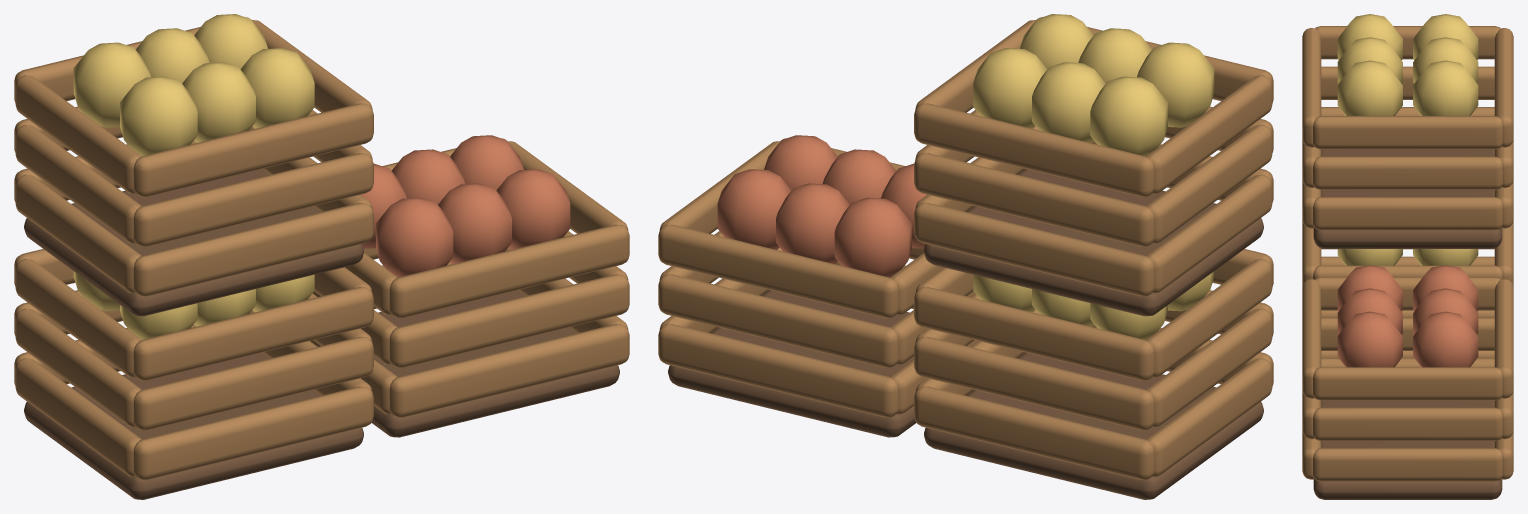
File: produce-crates.glb
3 views of the same model, side by side, from view 1: azimuth 30°, elevation 25°; view 2: azimuth 150°, elevation 25°; view 3: azimuth 270°, elevation 25° (orthographic). The views are drawn at different scales.
Visible parts, largest first — view 1: Crate.005_Mesh, Crate.003_Mesh, Crate.004_Mesh; view 2: Crate.005_Mesh, Crate.003_Mesh, Crate.004_Mesh; view 3: Crate.004_Mesh, Crate.005_Mesh, Crate.003_Mesh.
Boxes of the visible parts, bbox=[...] form: Crate.005_Mesh: bbox=[14, 14, 373, 316]; Crate.003_Mesh: bbox=[14, 249, 373, 499]; Crate.004_Mesh: bbox=[310, 135, 629, 437]; Crate.005_Mesh: bbox=[914, 14, 1273, 316]; Crate.003_Mesh: bbox=[914, 249, 1273, 499]; Crate.004_Mesh: bbox=[658, 135, 977, 437]; Crate.004_Mesh: bbox=[1302, 265, 1513, 499]; Crate.005_Mesh: bbox=[1302, 14, 1513, 248]; Crate.003_Mesh: bbox=[1302, 220, 1513, 358].
Bounding box in the file's own units: 1.37 × 1.01 × 0.615.
